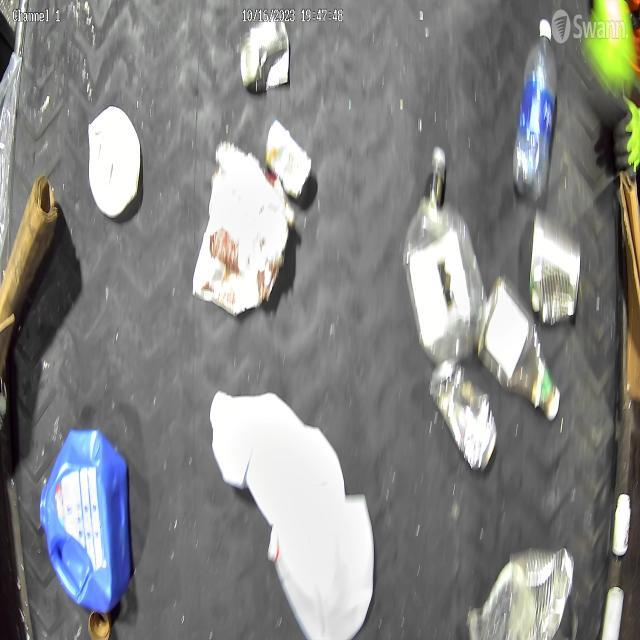can: (429, 362, 498, 473), (505, 545, 574, 640), (528, 209, 582, 328), (240, 14, 291, 92)
milk_jug: (210, 390, 346, 524), (266, 492, 375, 640)
non_white_jug: (39, 426, 134, 614)
plastic_bottle: (512, 18, 558, 206)
